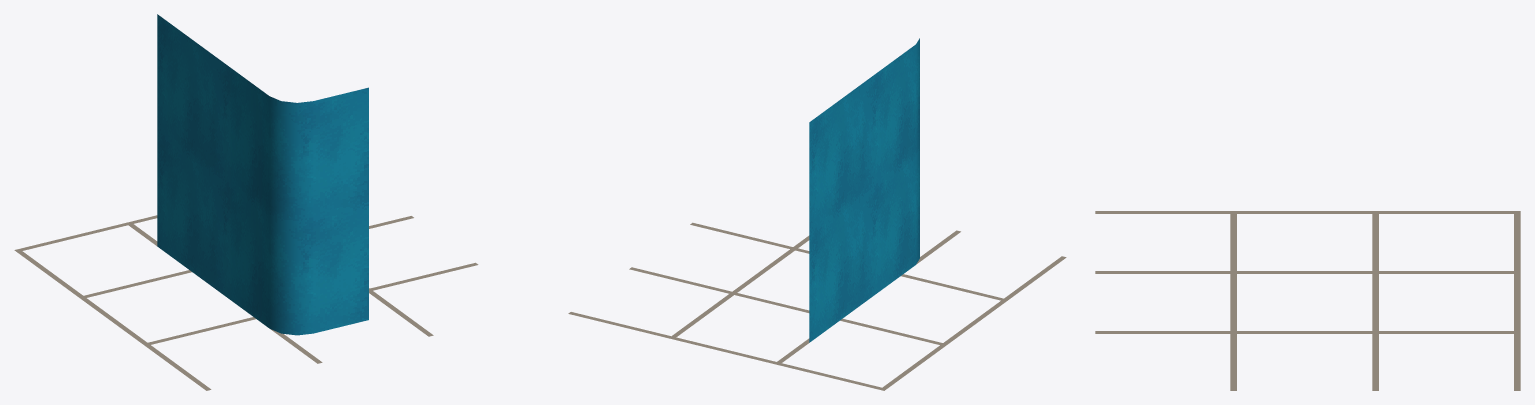
File: Water_Waterfall_Base_Right_1x1.glb
3 views of the same model, side by side, from view 1: azimuth 30°, elevation 25°; view 2: azimuth 150°, elevation 25°; view 3: azimuth 270°, elevation 25° (orthographic). The views are drawn at different scales.
Parts seen in each view (by area): view 1: Water_Waterfall_Base_Right_1x1, Floor; view 2: Water_Waterfall_Base_Right_1x1, Floor; view 3: Floor.
Part boxes in pixels (x1,y1,x2,y2): Water_Waterfall_Base_Right_1x1: (157,14,368,335); Floor: (14,215,478,390); Water_Waterfall_Base_Right_1x1: (809,38,919,342); Floor: (568,222,1066,390); Floor: (1095,211,1520,390).
Size of the model in its own units: 300 by 200 by 300.
Materials: 2 (2 with a texture image).
